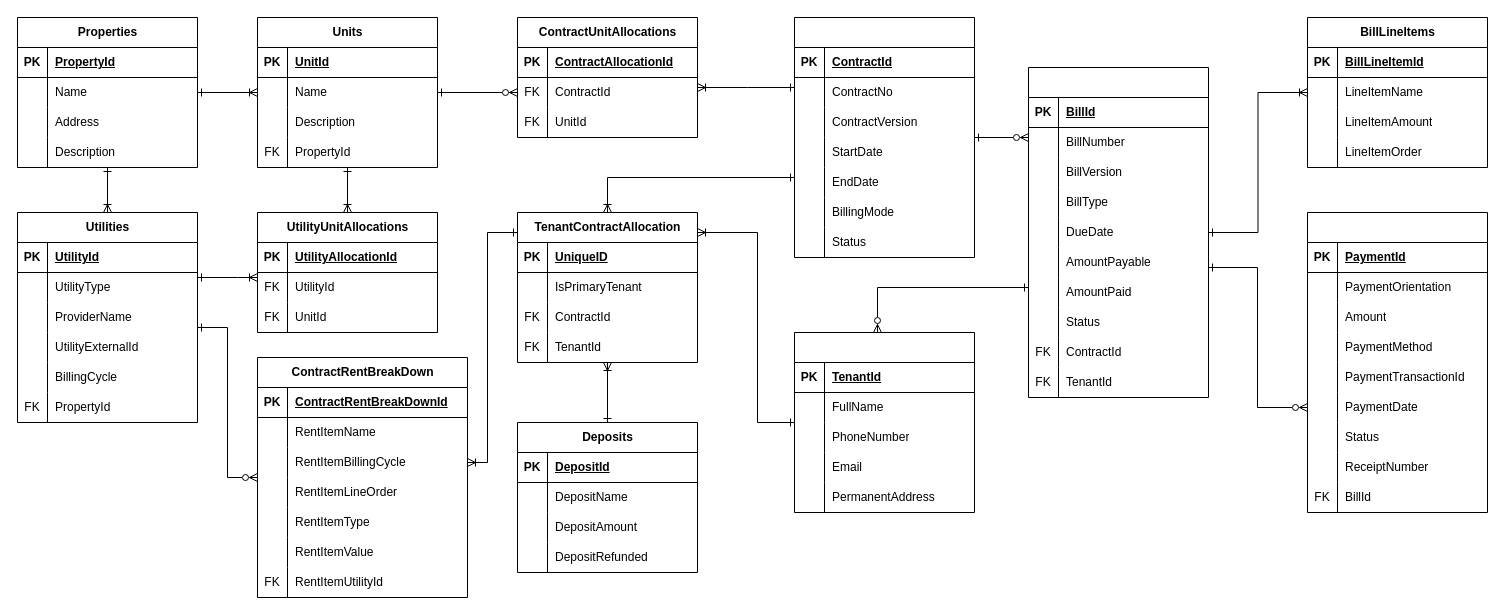
The diagram is 1505 pixels wide and 615 high, and some of its shapes have lost their labels. The shapes that lost their labels are listed below. From the top down, each one's box as (x1, y1, x2, y2) in pixels, then its label:
(794, 16, 974, 258): Contracts
(1028, 66, 1208, 398): Bills
(1306, 212, 1488, 512): Payments
(794, 332, 974, 512): Tenants
